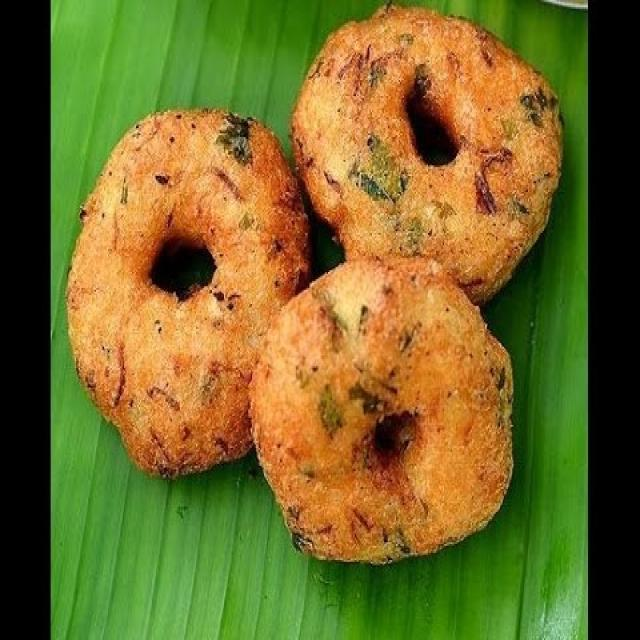medu vadai: (68, 108, 308, 475), (292, 7, 561, 302), (251, 260, 509, 562)
